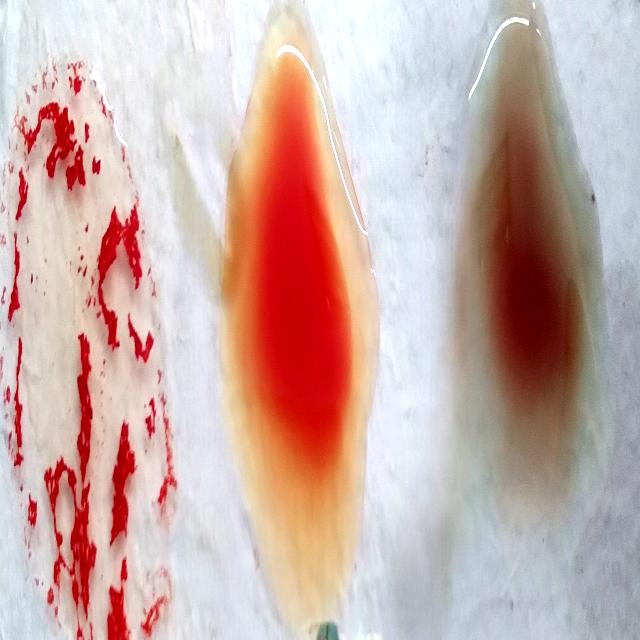D: (0, 59, 174, 640)
